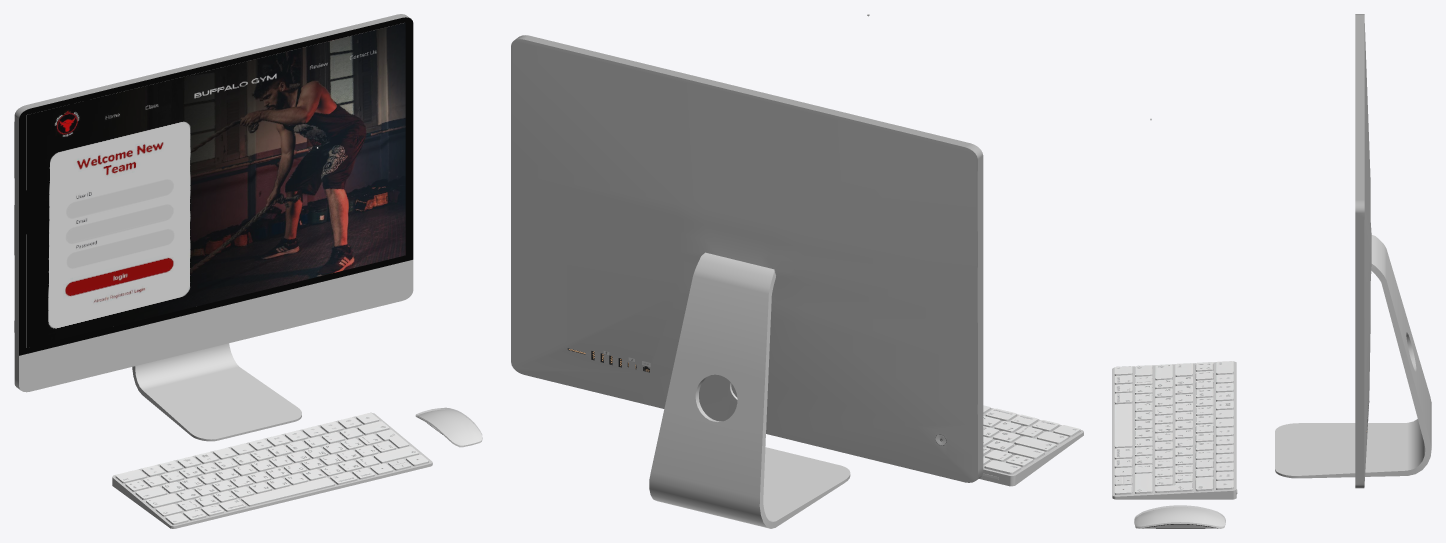
The picture shows the model from 3 angles, left to right: view 1: azimuth 30°, elevation 25°; view 2: azimuth 150°, elevation 25°; view 3: azimuth 270°, elevation 25°; orthographic projection. The views are drawn at different scales.
Visible parts, largest first — view 1: Body, Keyboard, Stand, Mouse; view 2: Body, Stand, Keyboard; view 3: Keyboard, Stand, Body, Mouse.
Part boxes in pixels (x1,y1,x2,y2): Body: [14, 14, 413, 392]; Keyboard: [112, 412, 432, 528]; Stand: [132, 343, 301, 441]; Mouse: [415, 407, 482, 447]; Body: [511, 35, 983, 482]; Stand: [649, 252, 850, 528]; Keyboard: [979, 405, 1083, 486]; Keyboard: [1112, 361, 1237, 499]; Stand: [1275, 235, 1431, 478]; Body: [1355, 14, 1371, 488]; Mouse: [1134, 505, 1225, 528].
Size of the model in its own units: 668 by 550 by 462.
Materials: 15 (4 with a texture image).
